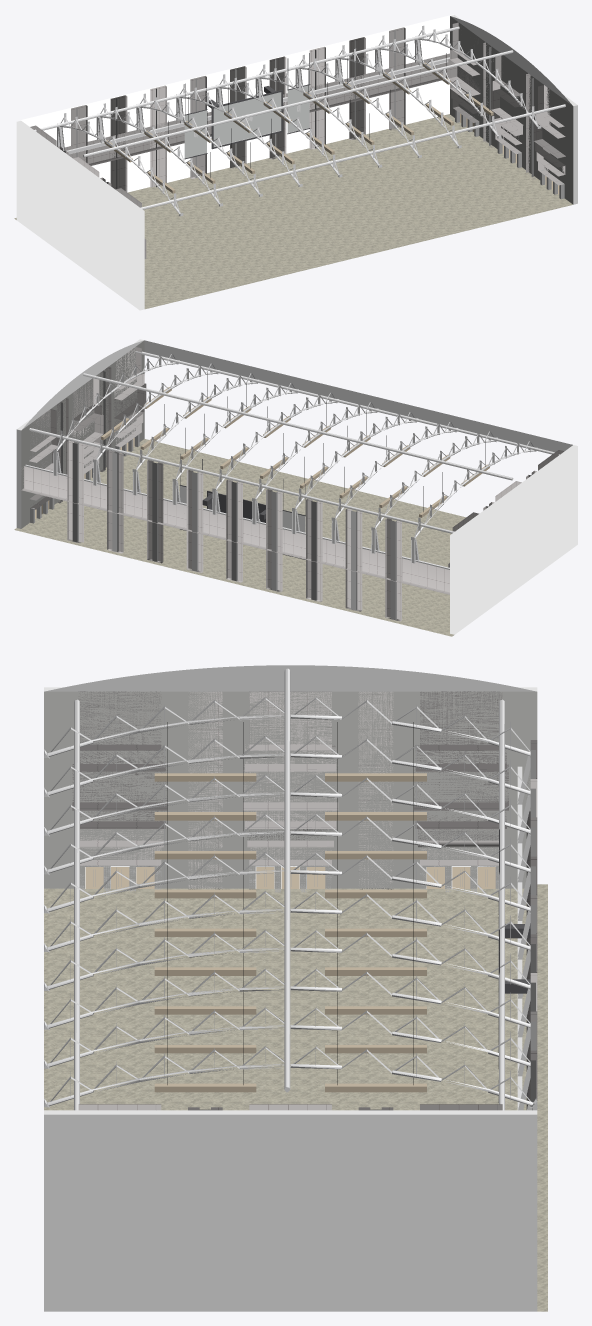
File: hall2.gltf
3 views of the same model, one above another, from view 1: azimuth 30°, elevation 25°; view 2: azimuth 150°, elevation 25°; view 3: azimuth 270°, elevation 25° (orthographic). The views are drawn at different scales.
Parts seen in each view (by area): view 1: Floor, Wall, celling, sky, Lamp, lcd_screen, cotcua, Screen LED, banner2, banner1; view 2: Wall, Floor, celling, Lamp, Screen LED, cotcua; view 3: Wall, Floor, celling, Lamp, cua0, Screen LED.
Part boxes in pixels (x1,y1,x2,y2): Floor: (14,114,572,309); Wall: (16,15,577,310); celling: (34,16,572,216); sky: (20,14,453,192); Lamp: (104,53,493,193); lcd_screen: (213,92,281,146); cotcua: (455,107,564,199); Screen LED: (184,53,310,159); banner2: (287,85,309,132); banner1: (184,110,206,158); Wall: (16,339,577,634); Floor: (14,439,465,636); celling: (22,340,572,569); Lamp: (101,373,489,517); Screen LED: (179,454,305,559); cotcua: (30,431,139,523); Wall: (44,687,537,1311); Floor: (44,884,547,1311); celling: (44,665,537,1110); Lamp: (154,722,426,1092); cua0: (85,867,495,888); Screen LED: (498,829,530,1102).
Bounding box in the file's own units: 95.47 × 23.79 × 47.54.
Materials: 19 (5 with a texture image).
